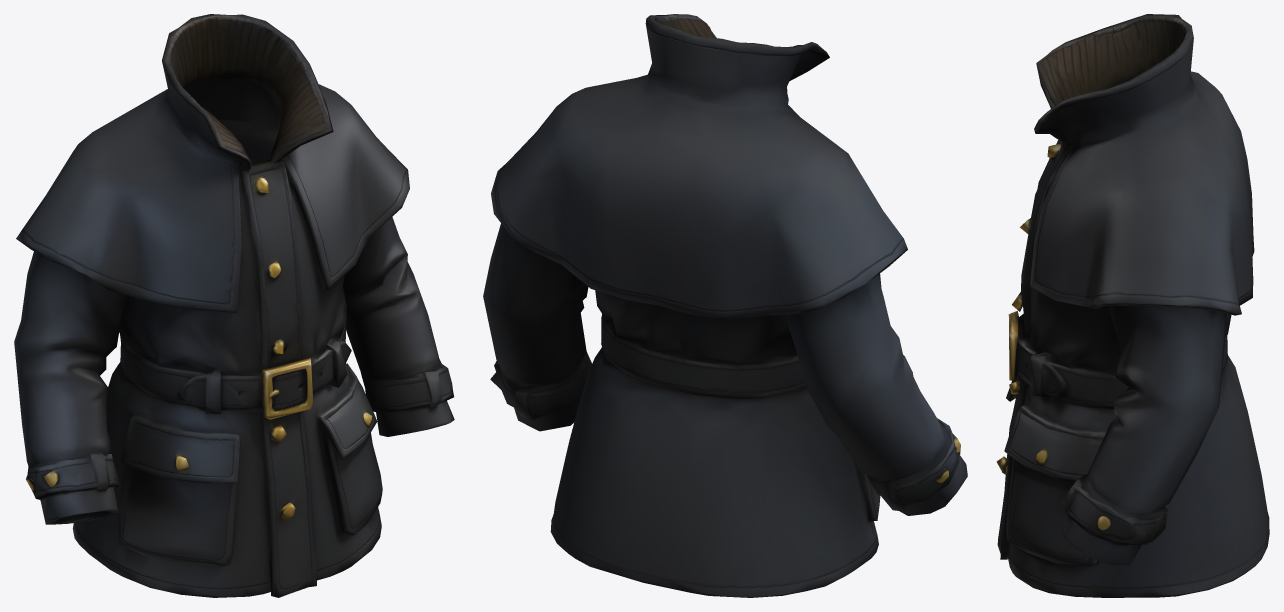
Rendered from PIPELINE3D-arm_oilskin_coat-batch2-9-delivery-model-fbx-03928c18b4e8-7887011cbb4a.fbx.
3 views of the same model, side by side, from view 1: azimuth 30°, elevation 25°; view 2: azimuth 150°, elevation 25°; view 3: azimuth 270°, elevation 25° (orthographic). The views are drawn at different scales.
Visible parts, largest first — view 1: tripo_node_d1574bcf-f98c-49cf-b894-7e0fb593c5ca; view 2: tripo_node_d1574bcf-f98c-49cf-b894-7e0fb593c5ca; view 3: tripo_node_d1574bcf-f98c-49cf-b894-7e0fb593c5ca.
Boxes of the visible parts, bbox=[...] form: tripo_node_d1574bcf-f98c-49cf-b894-7e0fb593c5ca: bbox=[14, 14, 454, 597]; tripo_node_d1574bcf-f98c-49cf-b894-7e0fb593c5ca: bbox=[483, 14, 967, 597]; tripo_node_d1574bcf-f98c-49cf-b894-7e0fb593c5ca: bbox=[996, 14, 1269, 597].
Bounding box in the file's own units: 103 × 120 × 57.03.
Materials: 1 (1 with a texture image).
